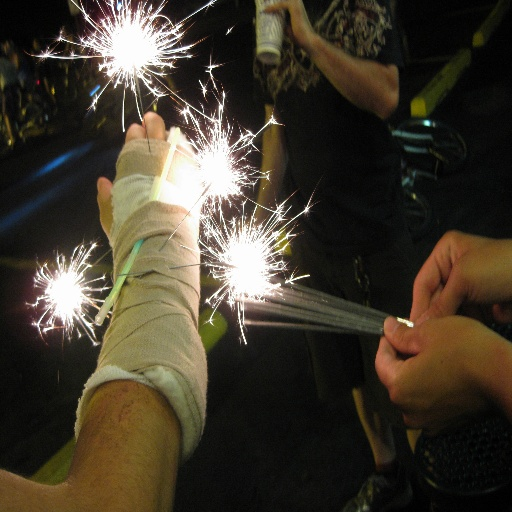hand: (98, 107, 193, 241), (408, 230, 511, 325), (262, 0, 315, 49)
